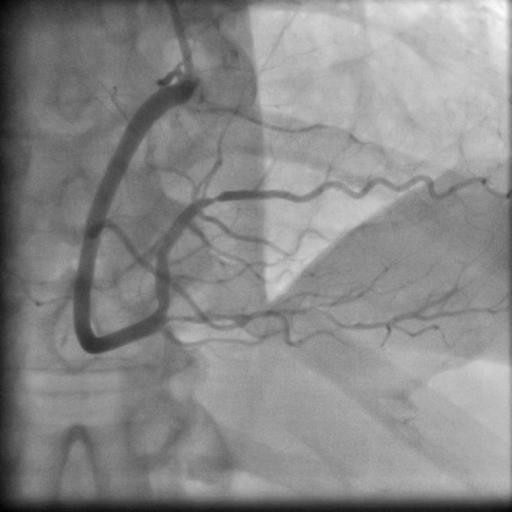Stenosis: (200, 190, 226, 213)
